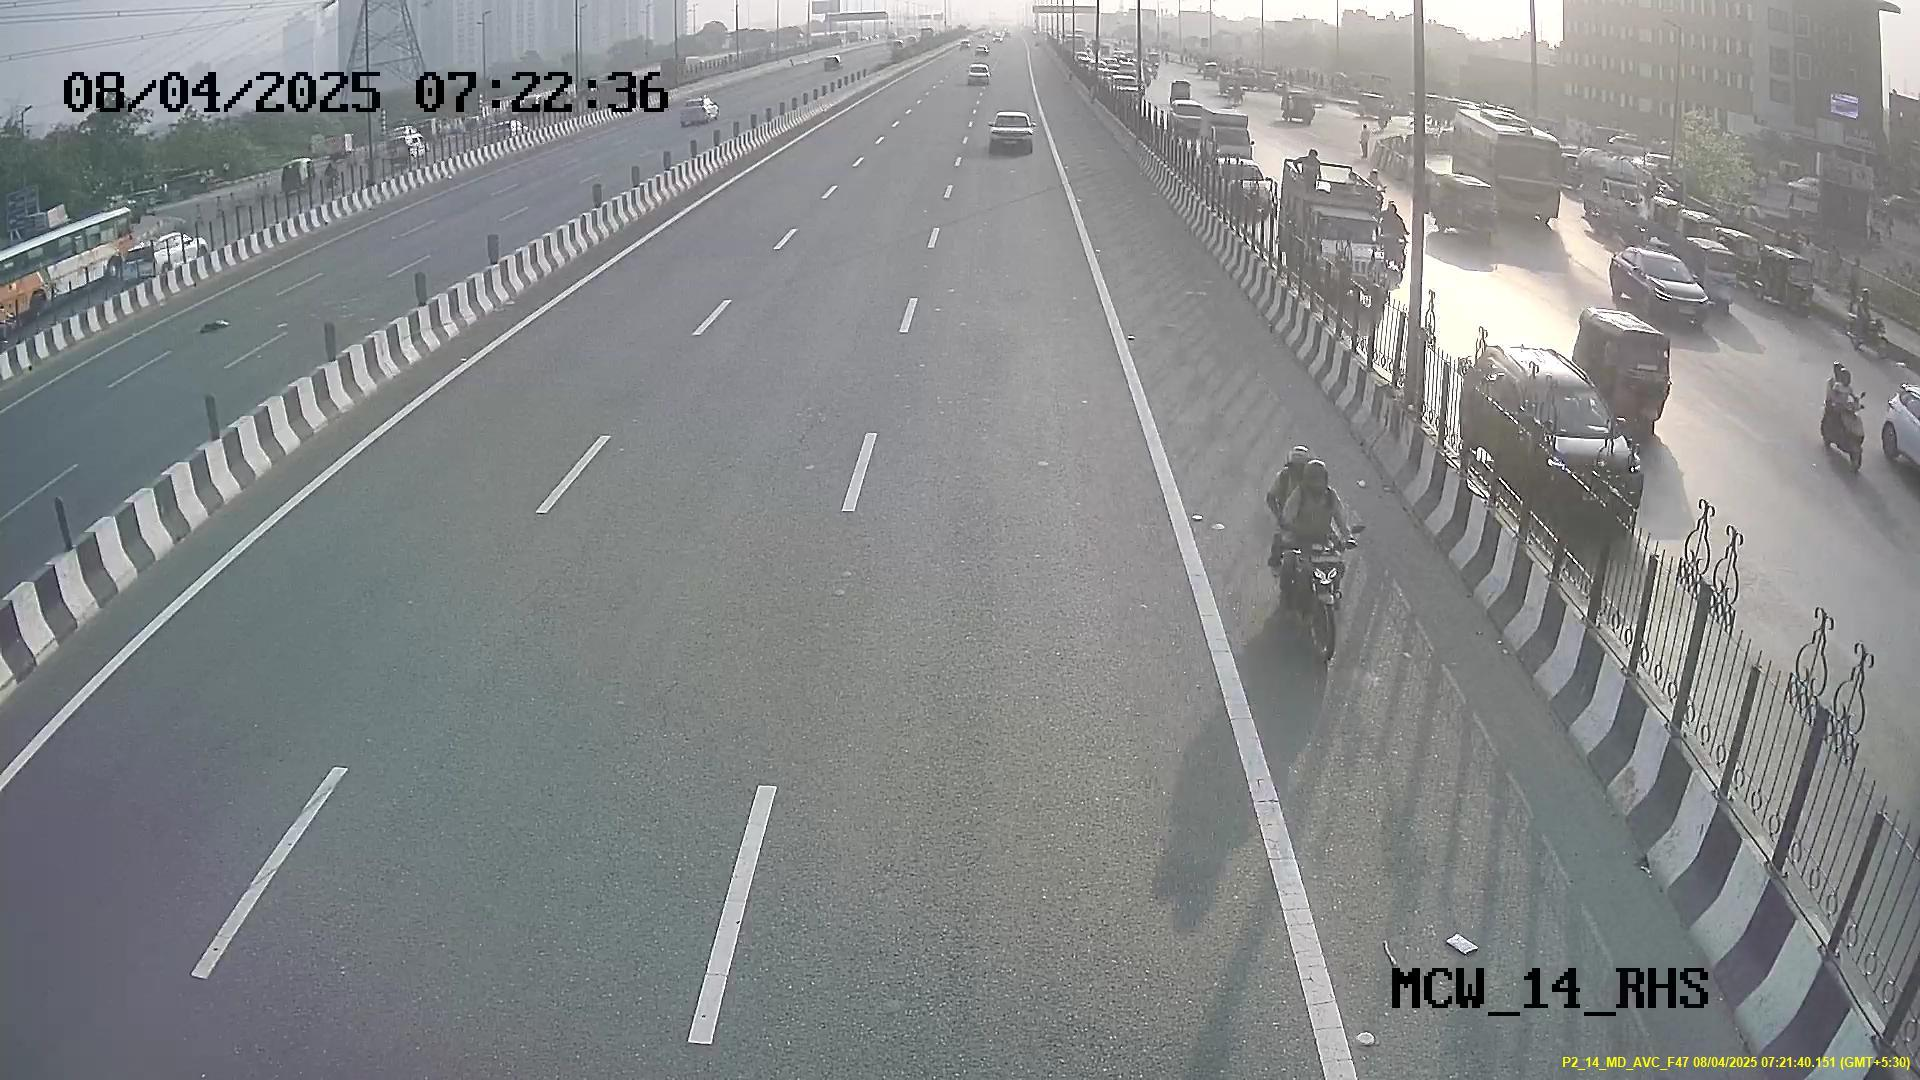bike: (1247, 442, 1358, 658)
